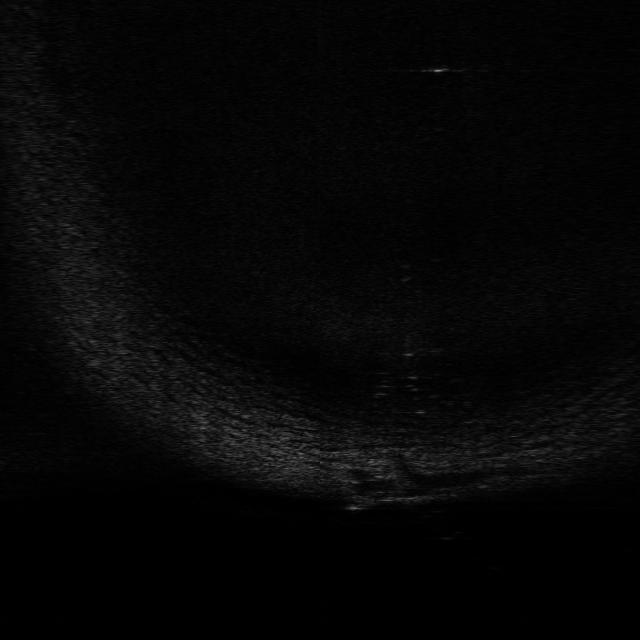plane: (340, 486, 430, 514)
